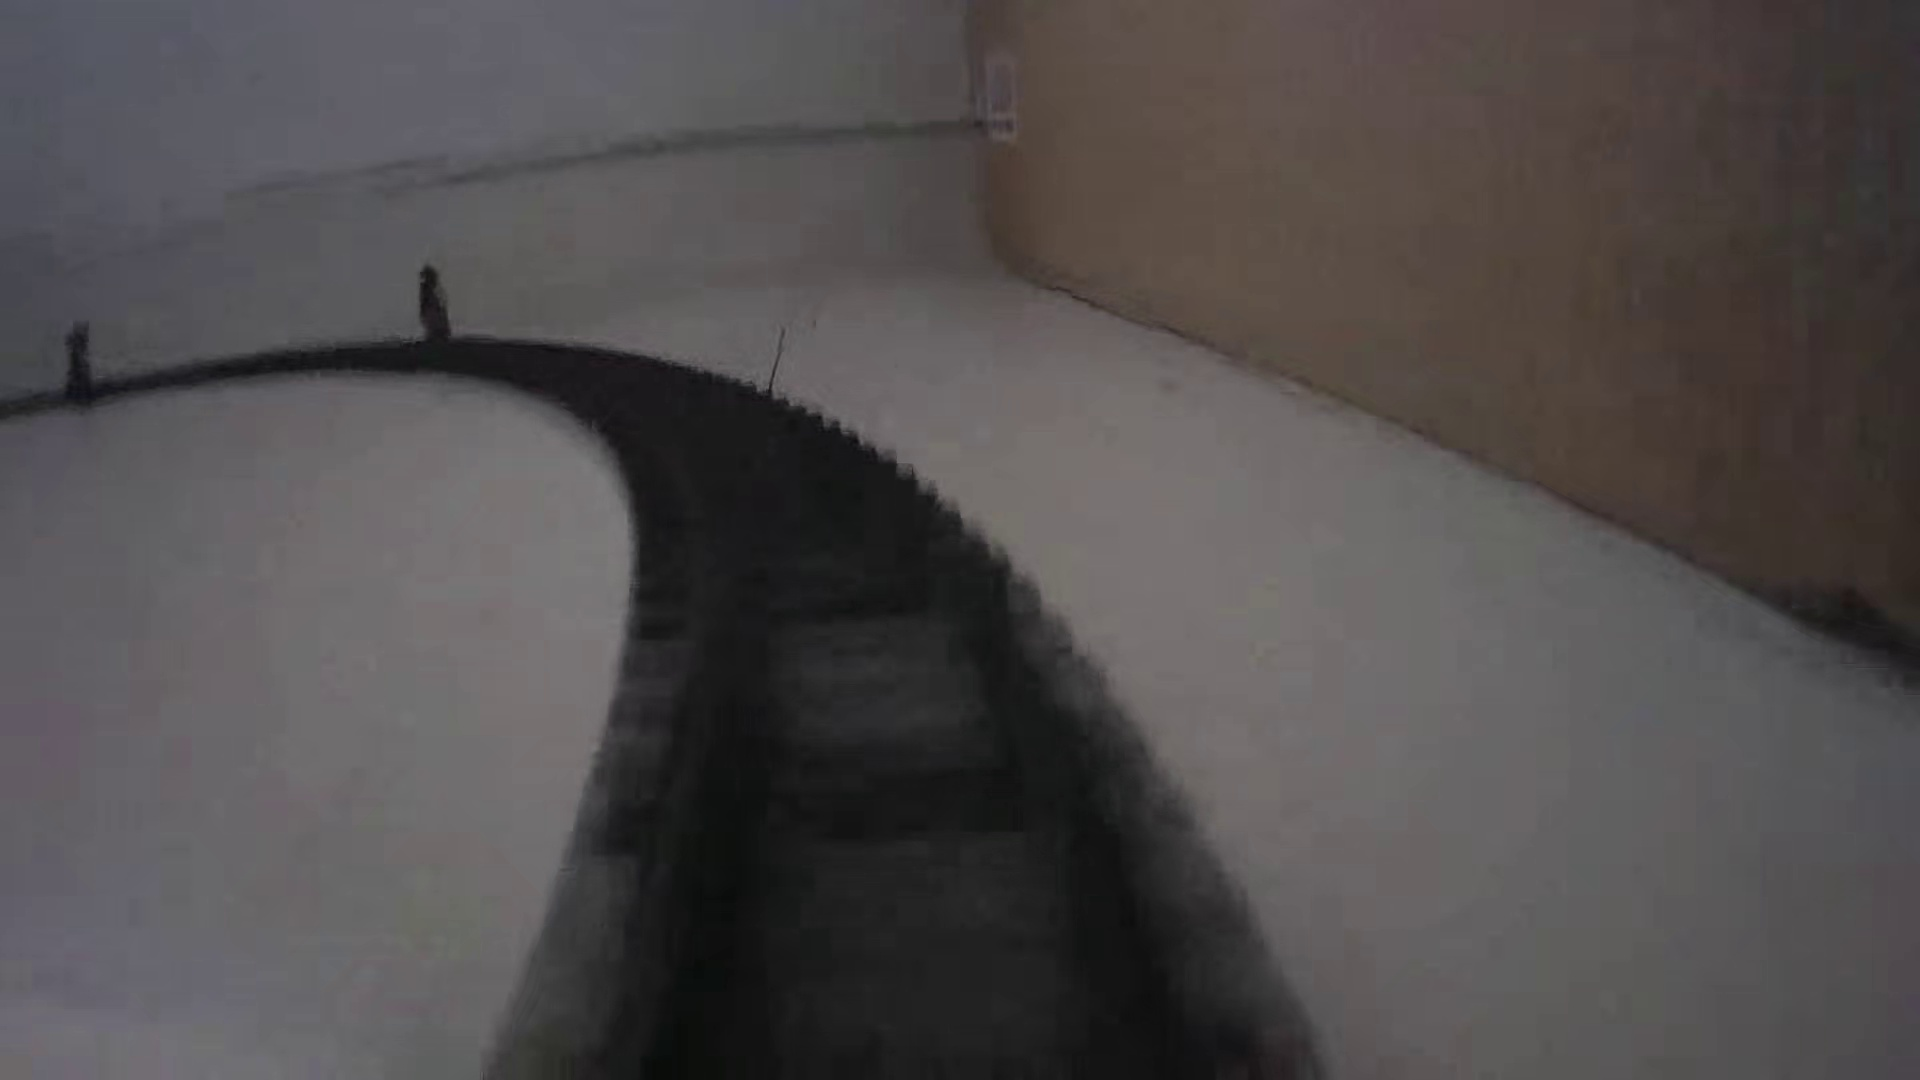people: (59, 320, 99, 402), (413, 266, 455, 342)
